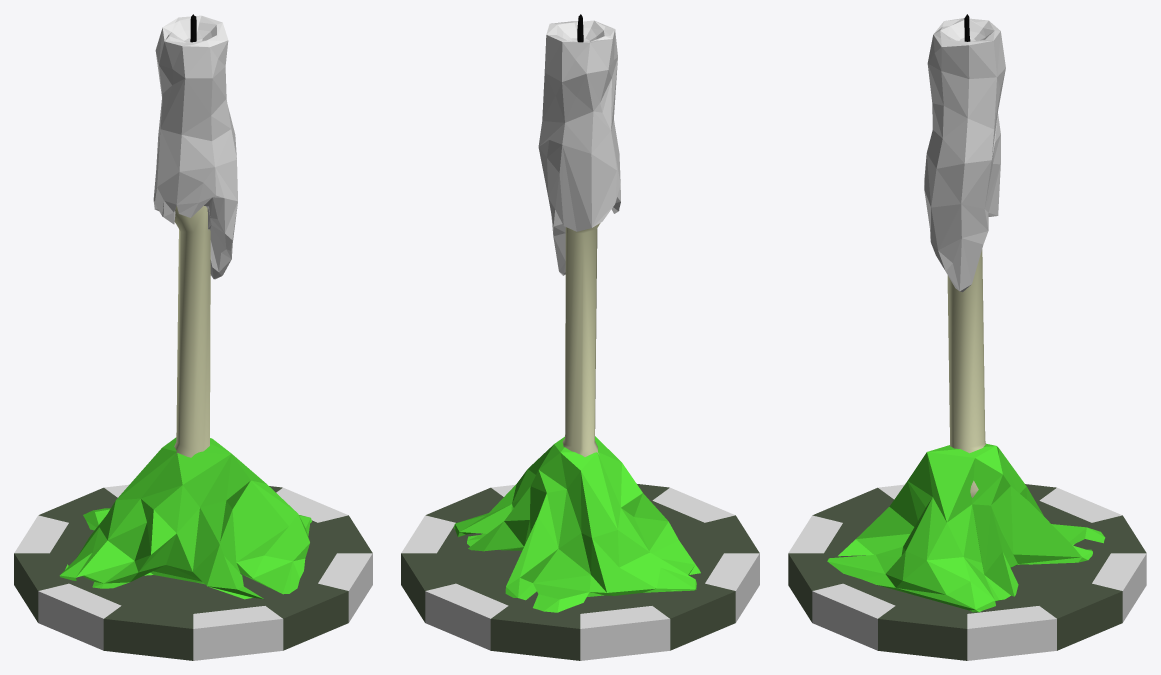
The model's file is Huesoconcadlev03 1.fbx.
3 renders of one model, left to right at view 1: azimuth 30°, elevation 25°; view 2: azimuth 150°, elevation 25°; view 3: azimuth 270°, elevation 25°, orthographic.
Parts seen in each view (by area): view 1: Circle.001; view 2: Circle.001; view 3: Circle.001.
Part boxes in pixels (x1,y1,x2,y2): Circle.001: (14, 14, 372, 660); Circle.001: (401, 14, 759, 660); Circle.001: (788, 14, 1146, 660).
Size of the model in its own units: 100 by 176 by 100.
